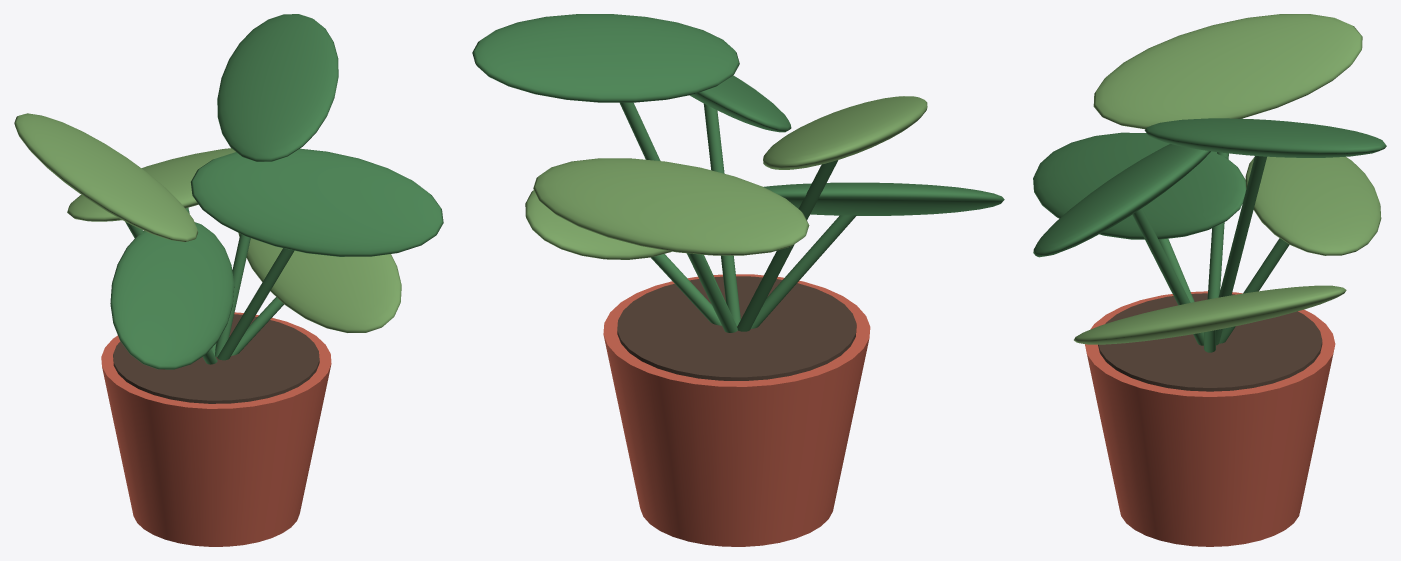
File: windowsill-plant.glb
The picture shows the model from 3 angles, left to right: view 1: azimuth 30°, elevation 25°; view 2: azimuth 150°, elevation 25°; view 3: azimuth 270°, elevation 25°; orthographic projection. The views are drawn at different scales.
Parts seen in each view (by area): view 1: windowsill-plant; view 2: windowsill-plant; view 3: windowsill-plant.
Part boxes in pixels (x1=…): windowsill-plant: x1=14, y1=14, x2=443, y2=546; windowsill-plant: x1=472, y1=14, x2=1004, y2=546; windowsill-plant: x1=1033, y1=14, x2=1386, y2=546.
Size of the model in its own units: 0.4649 by 0.5685 by 0.4096.
